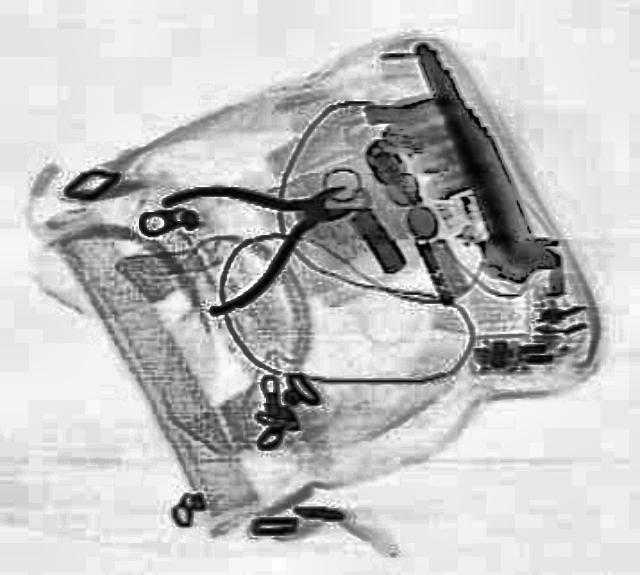Pliers: (147, 139, 380, 316)
